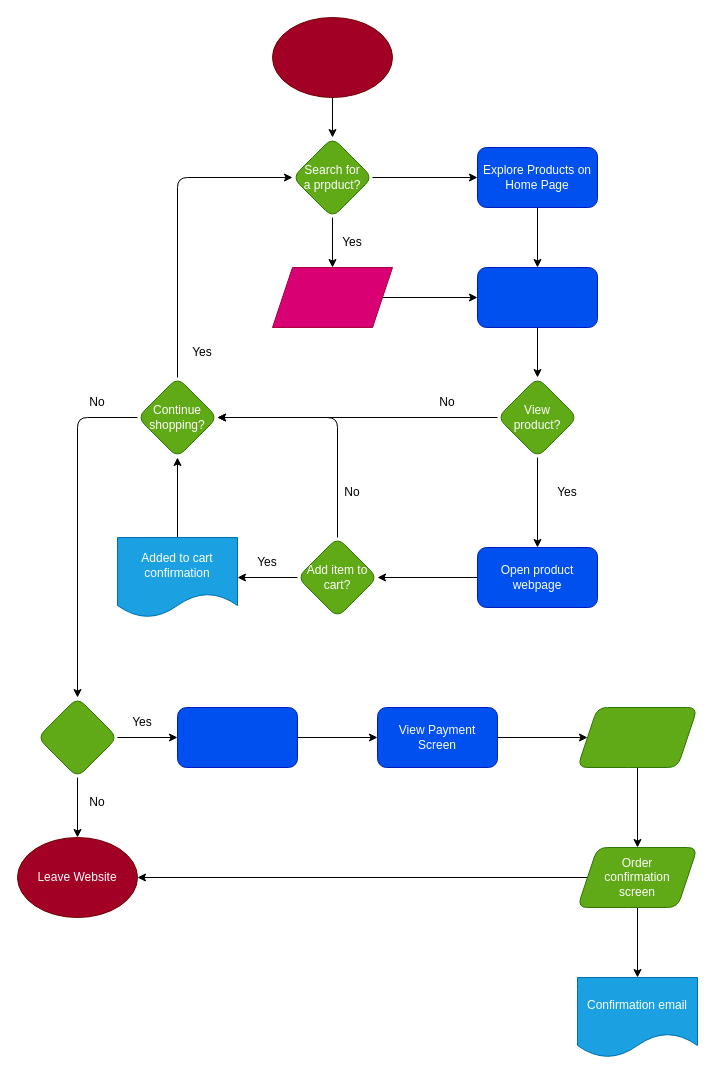
Some shapes in this 715 by 1075 pixel diagram are drawn without their labels. The shapes that lost their labels are listed below. From the top down, each one's box as (x1, y1, x2, y2) in pixels, then its label:
(272, 16, 392, 98): User Enters Website
(272, 266, 392, 328): User provides input for their search
(476, 266, 598, 328): User begins looking over products
(36, 696, 118, 778): Check out?
(176, 706, 298, 768): View Cart Screen
(576, 706, 698, 768): Input payment info
